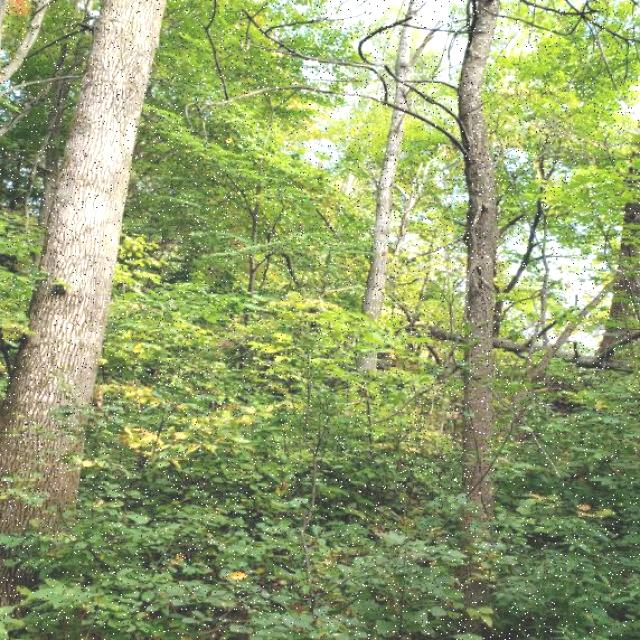fallen_object: (247, 242, 640, 448)
